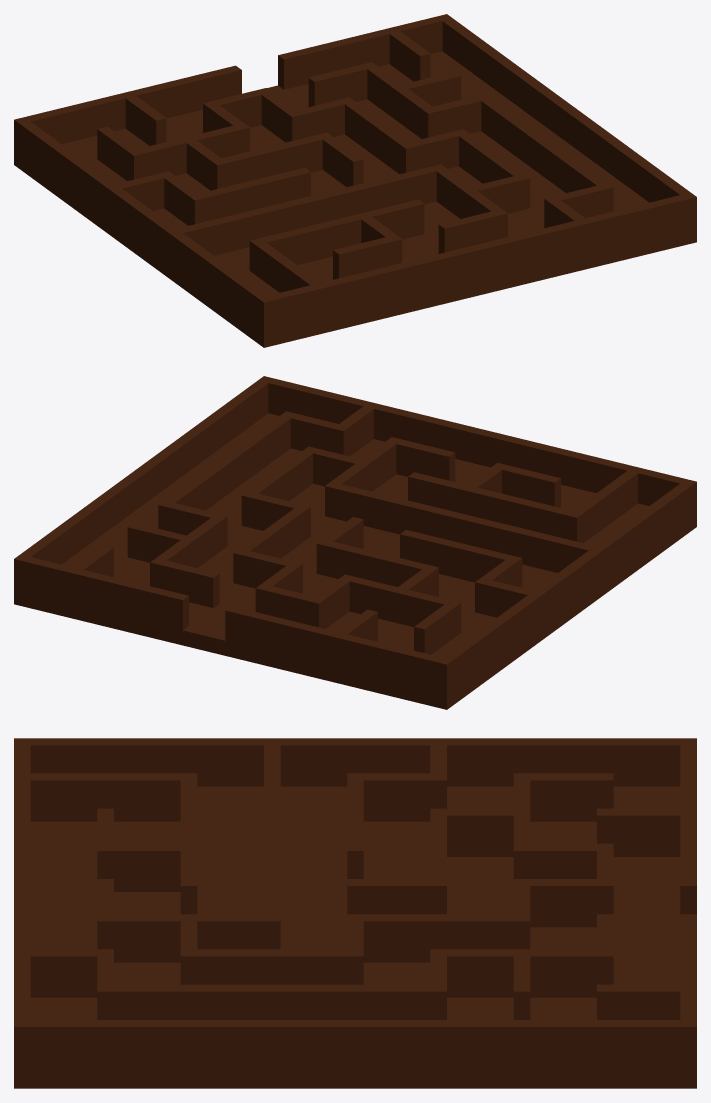
File: Labyrinth9.obj
3 views of the same model, one above another, from view 1: azimuth 30°, elevation 25°; view 2: azimuth 150°, elevation 25°; view 3: azimuth 270°, elevation 25° (orthographic). The views are drawn at different scales.
Visible parts, largest first — view 1: Labyrinth; view 2: Labyrinth; view 3: Labyrinth.
Boxes of the visible parts, x1=… form: Labyrinth: x1=14, y1=14, x2=696, y2=347; Labyrinth: x1=14, y1=376, x2=696, y2=709; Labyrinth: x1=14, y1=738, x2=696, y2=1088.
Bounding box in the file's own units: 30 × 3 × 30.
